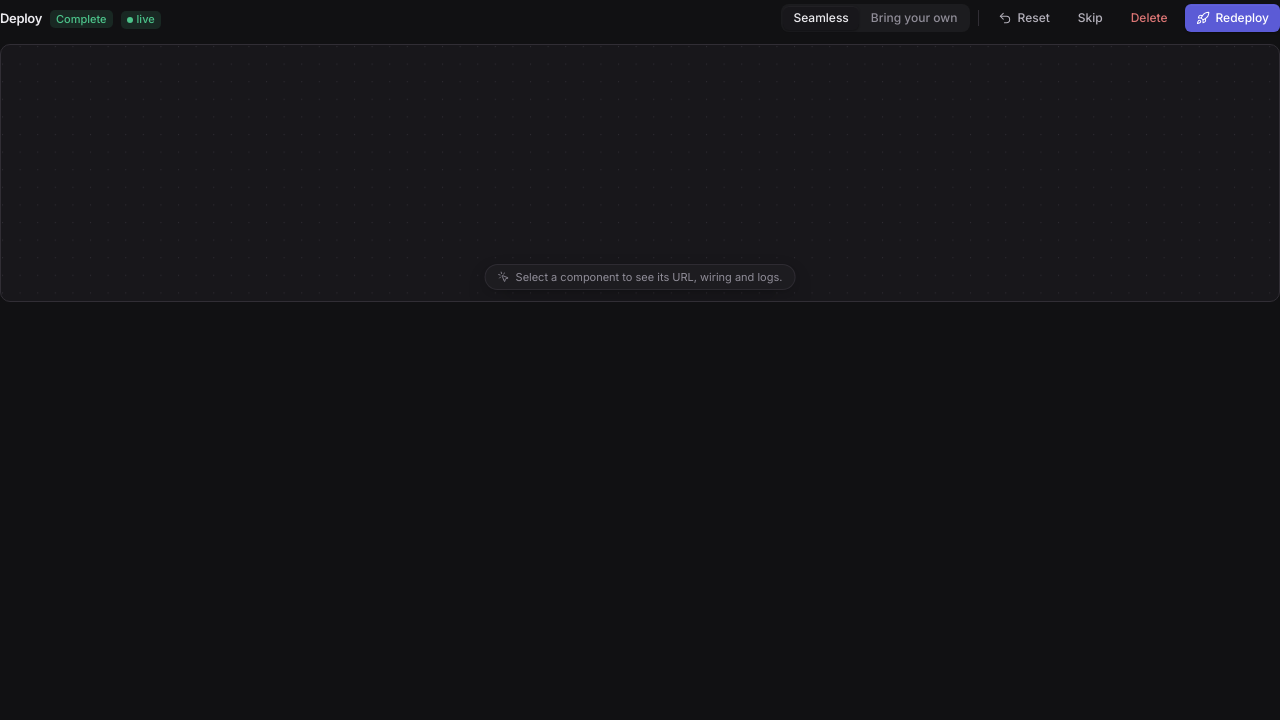
it: deleting a deployment › confirms before destroying anything
Click the button with test id "deploy-delete".
click(1149, 18)  # box [1120,4,1178,32]
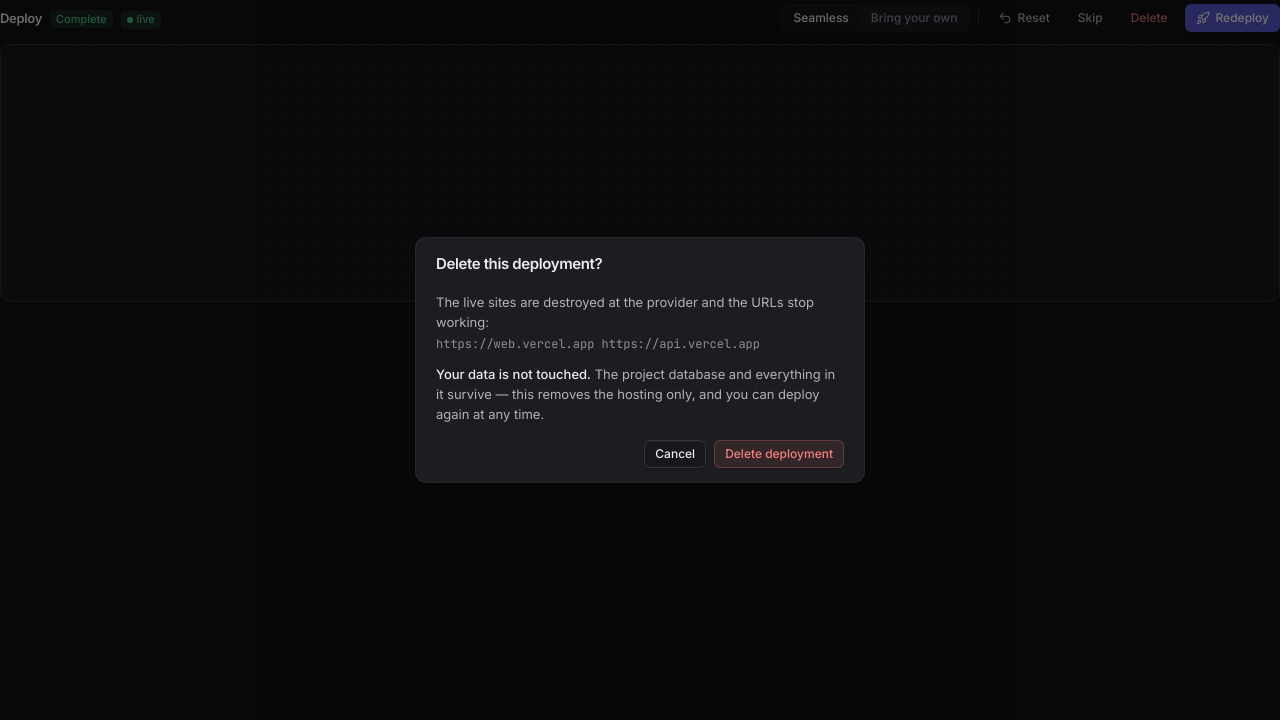
Now the heading "Delete this deployment?" is shown, box [436,254,602,273]
Now the text "Your data is not touched." is shown, box [436,366,591,382]
